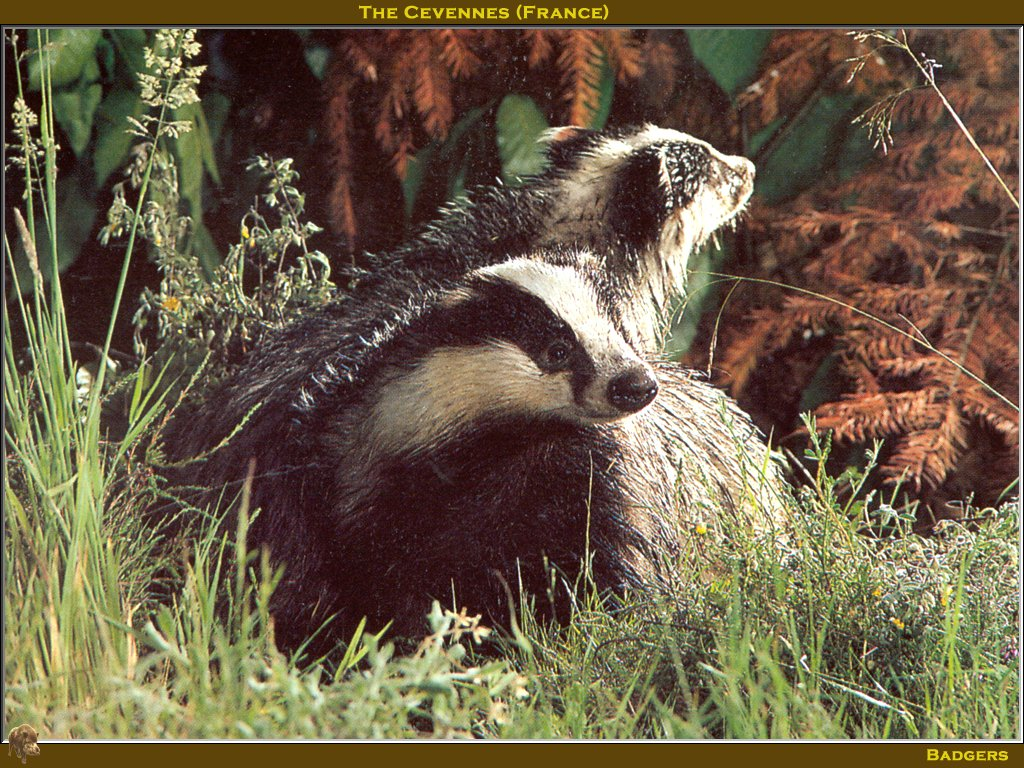badger: (100, 119, 763, 686), (359, 252, 827, 669)
